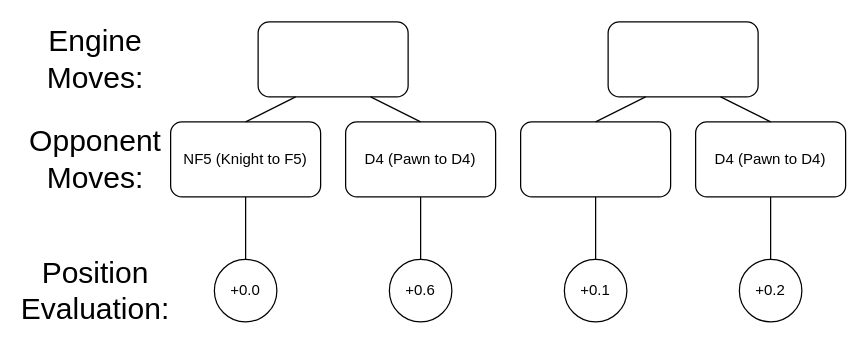
Some shapes in this 868 by 349 pixel diagram are drawn without their labels. Each missing label, with the centre of its shape:
"C4 (Pawn to C4)" goes at (595,159).
"E4 (Pawn to E4)" goes at (682,59).
"NC3 (Knight to C3)" goes at (332,59).
